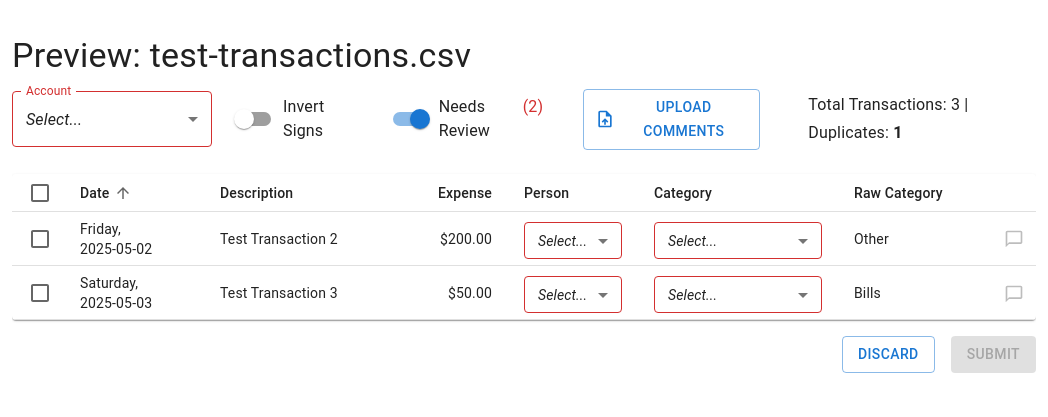
Test: PreviewPage › selects only visible items when Select All is clicked with filter active
This screenshot has width=1048, height=417.
Expected: the text "Test Transaction 2" is shown, left=204, top=212, right=396, bottom=266
Expected: the switch labelled "Needs Review (2)" is checked, left=381, top=95, right=543, bottom=143
Note: Click "Select All" checkbox in the header
Click the 1st checkbox: (40, 193) left=28, top=181, right=52, bottom=205
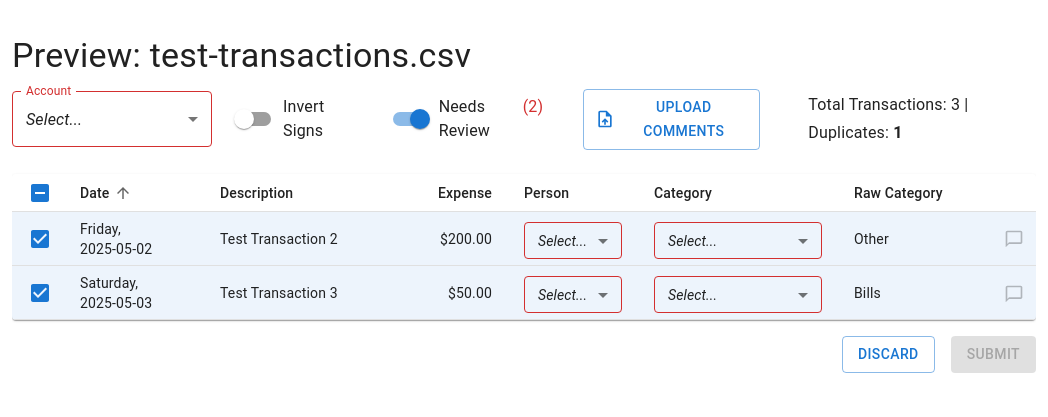
Note: Turn toggle off to see all items
Click the switch labelled "Needs Review (2)": (462, 119) left=381, top=95, right=543, bottom=143
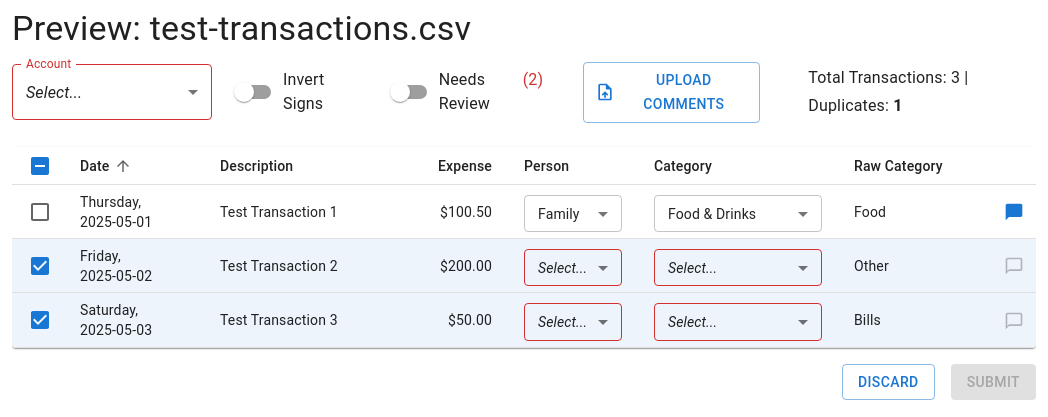
Now the 3rd checkbox is checked, box left=28, top=254, right=52, bottom=278
Now the text "Test Transaction 1" is shown, box left=204, top=185, right=396, bottom=239
Now the 2nd checkbox is not checked, box left=28, top=200, right=52, bottom=224
